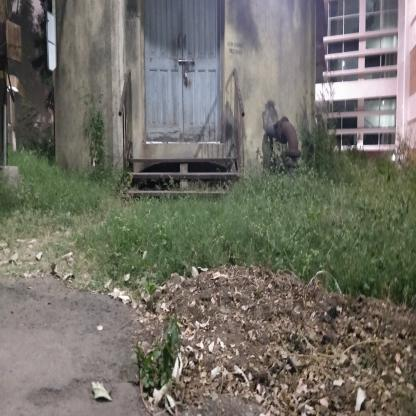stairs: (133, 153, 223, 200)
